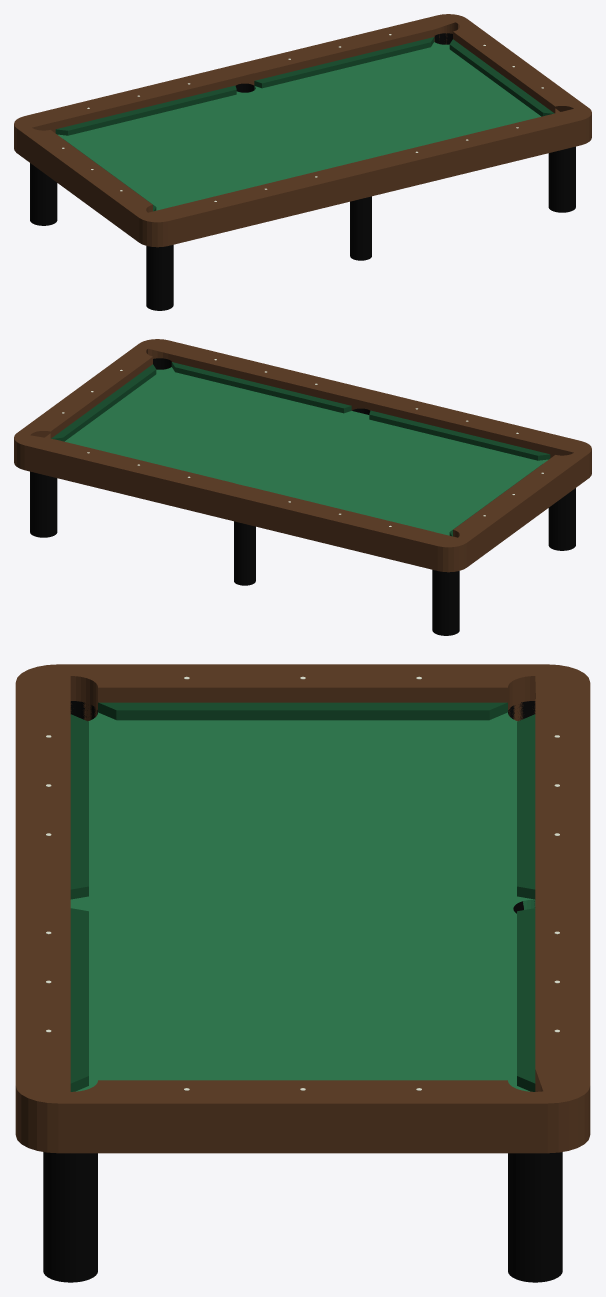
The model's file is ElitePoolTable3.fbx.
3 views of the same model, one above another, from view 1: azimuth 30°, elevation 25°; view 2: azimuth 150°, elevation 25°; view 3: azimuth 270°, elevation 25° (orthographic). The views are drawn at different scales.
Visible parts, largest first — view 1: Surface, WoodenFrame, Pockets, Cushions; view 2: Surface, WoodenFrame, Pockets, Cushions; view 3: Surface, WoodenFrame, Cushions, Pockets.
Part boxes in pixels (box(x1,y1,x2,y2)): Surface: box(57, 42, 540, 210); WoodenFrame: box(14, 14, 591, 247); Pockets: box(30, 33, 575, 310); Cushions: box(55, 37, 554, 211); Surface: box(65, 367, 548, 535); WoodenFrame: box(14, 339, 591, 572); Pockets: box(30, 358, 575, 635); Cushions: box(51, 362, 550, 536); Surface: box(70, 712, 535, 1091); WoodenFrame: box(15, 664, 590, 1153); Cushions: box(70, 702, 535, 1091); Pockets: box(43, 701, 562, 1282).
Bounding box in the file's own units: 2.84 × 0.576 × 1.57.
